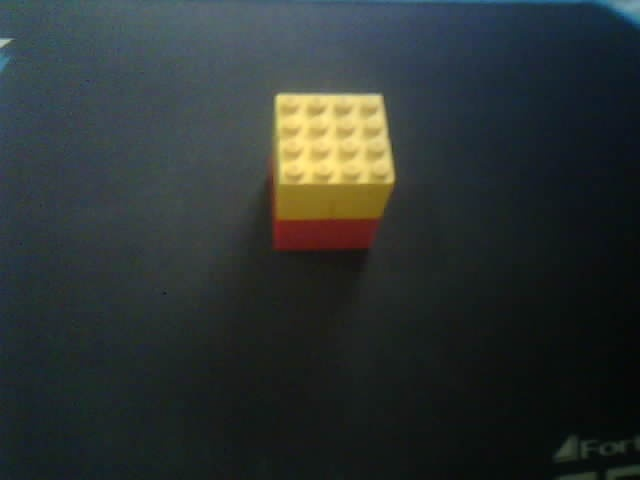lego: (264, 91, 397, 256)
